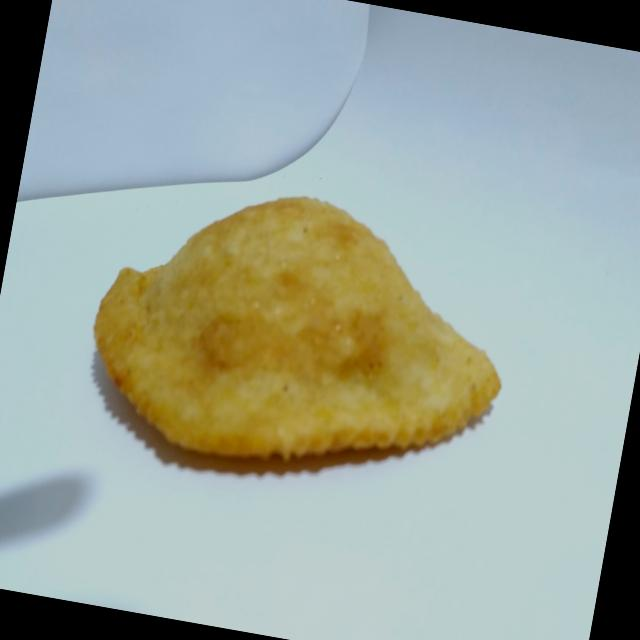Pastel_Mandio: (58, 157, 530, 538)
